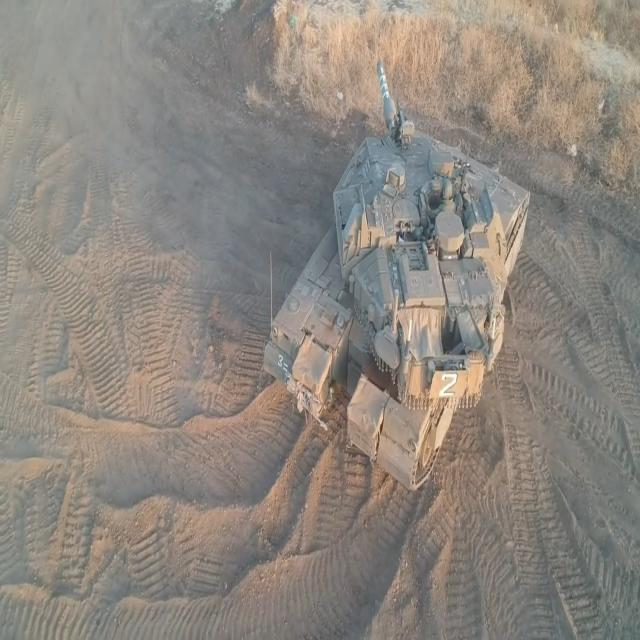tank: (251, 85, 543, 496)
